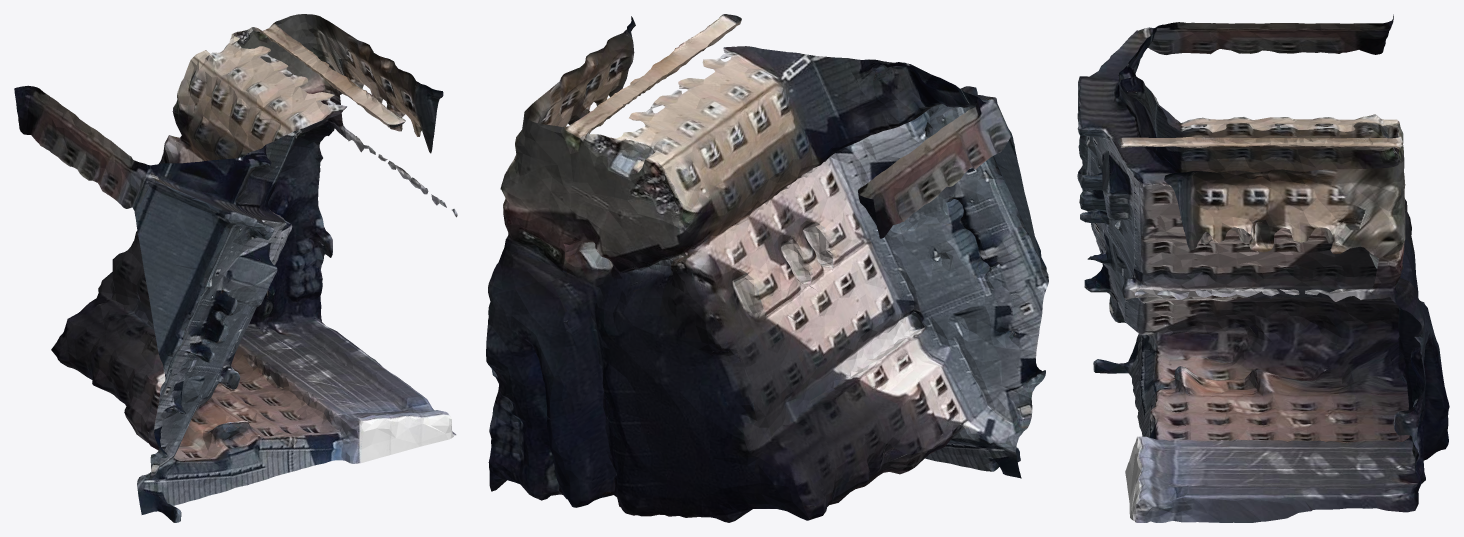
The model's file is Tile_+031_+023_L21_00003000.obj.
3 renders of one model, left to right at view 1: azimuth 30°, elevation 25°; view 2: azimuth 150°, elevation 25°; view 3: azimuth 270°, elevation 25°, orthographic. The views are drawn at different scales.
Bounding box in the file's own units: 31.38 × 31.38 × 30.49.
1 material, 1 textured.
